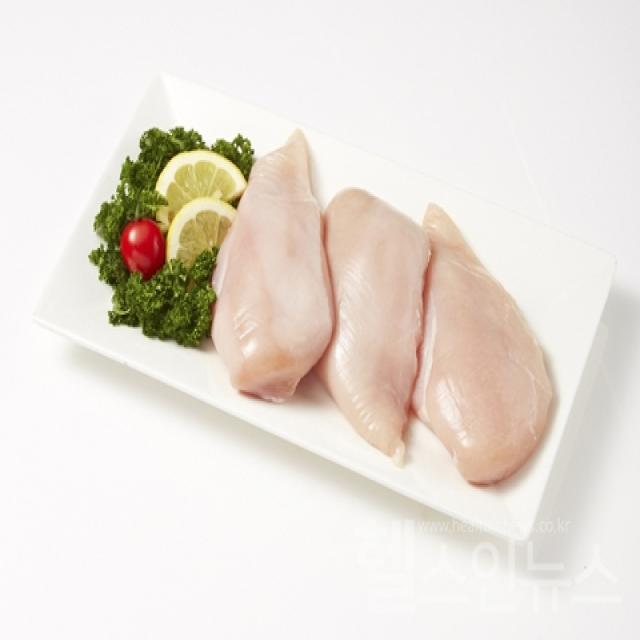chicken: (415, 201, 552, 484), (319, 183, 438, 480), (214, 122, 336, 404)
